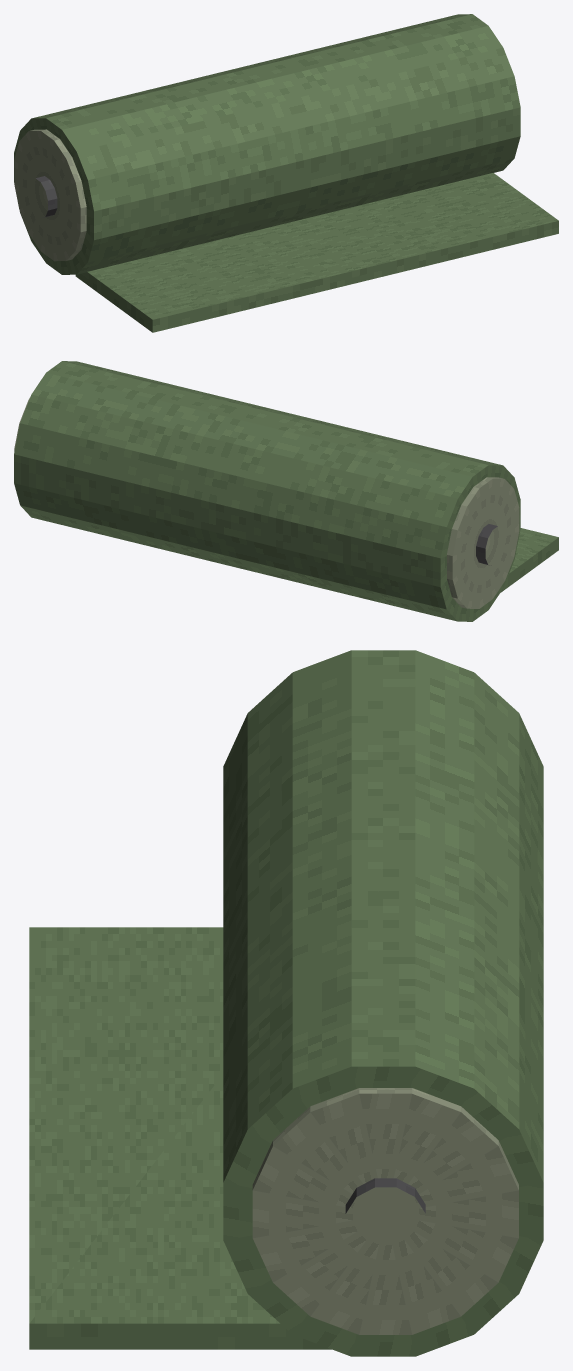
Rendered from g_carpet.glb.
3 renders of one model, top to bottom at view 1: azimuth 30°, elevation 25°; view 2: azimuth 150°, elevation 25°; view 3: azimuth 270°, elevation 25°, orthographic. The views are drawn at different scales.
Parts seen in each view (by area): view 1: block_rolled carpet, block_unrolled carpet edge, block_exposed roll edge, block_dark roll core; view 2: block_rolled carpet, block_exposed roll edge, block_unrolled carpet edge, block_dark roll core; view 3: block_rolled carpet, block_unrolled carpet edge, block_exposed roll edge.
Boxes of the visible parts, x1,y1,x2,y2 form: block_rolled carpet: [14, 14, 520, 274]; block_unrolled carpet edge: [75, 173, 558, 332]; block_exposed roll edge: [14, 129, 86, 261]; block_dark roll core: [36, 176, 57, 217]; block_rolled carpet: [14, 361, 520, 621]; block_exposed roll edge: [447, 477, 519, 608]; block_unrolled carpet edge: [500, 528, 558, 592]; block_dark roll core: [476, 524, 497, 565]; block_rolled carpet: [223, 650, 543, 1356]; block_unrolled carpet edge: [29, 927, 331, 1349]; block_exposed roll edge: [252, 1088, 518, 1334].
Bounding box in the file's own units: 0.3719 × 0.1138 × 0.181.
Materials: 1 (1 with a texture image).
